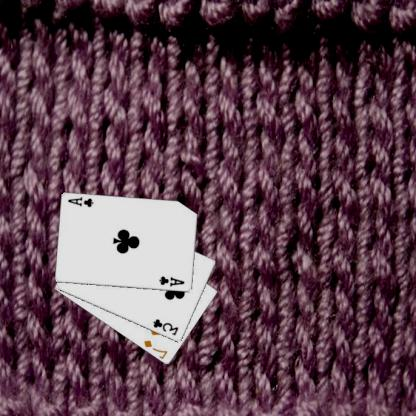3C: (152, 317, 182, 337)
7D: (142, 338, 170, 360)
AC: (67, 194, 96, 209), (158, 274, 188, 288)
